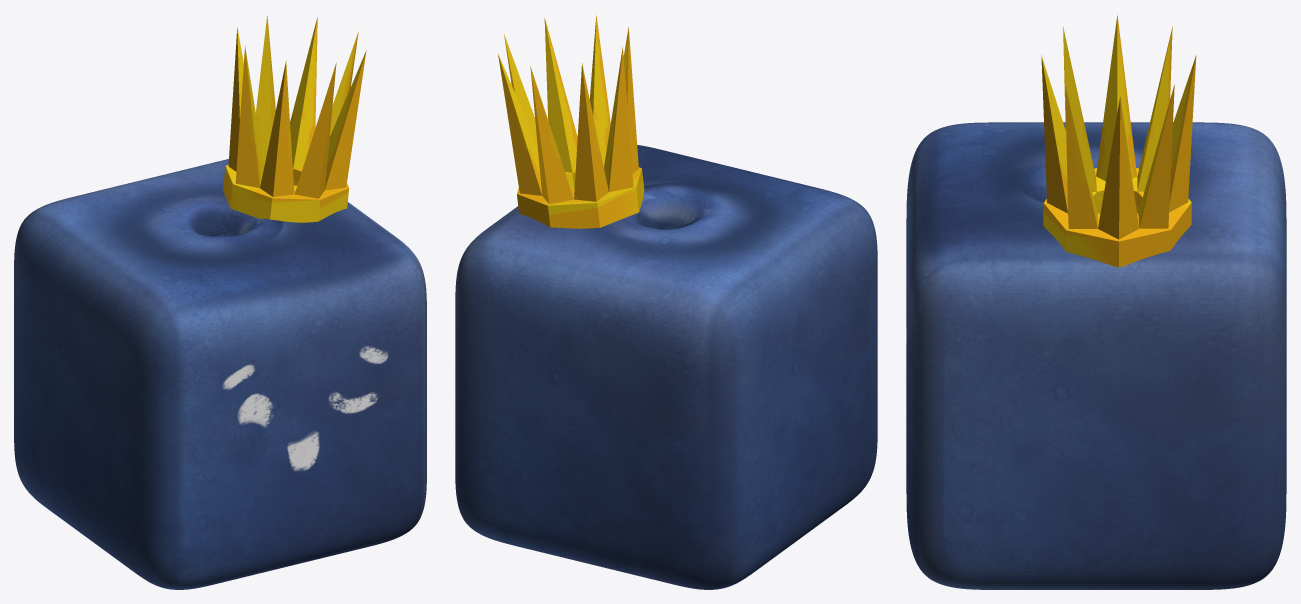
Rendered from Blueberry.glb.
3 renders of one model, left to right at view 1: azimuth 30°, elevation 25°; view 2: azimuth 150°, elevation 25°; view 3: azimuth 270°, elevation 25°, orthographic. The views are drawn at different scales.
Visible parts, largest first — view 1: 상자_1_상자, 원통_원통; view 2: 상자_1_상자, 원통_원통; view 3: 상자_1_상자, 원통_원통.
Boxes of the visible parts, box(x1,y1,x2,y2) form: 상자_1_상자: box(14, 159, 426, 589); 원통_원통: box(223, 15, 366, 222); 상자_1_상자: box(455, 145, 877, 589); 원통_원통: box(498, 15, 644, 228); 상자_1_상자: box(906, 122, 1286, 589); 원통_원통: box(1041, 15, 1196, 267).
Size of the model in its own units: 1.02 by 1.55 by 1.
2 materials, 2 textured.
